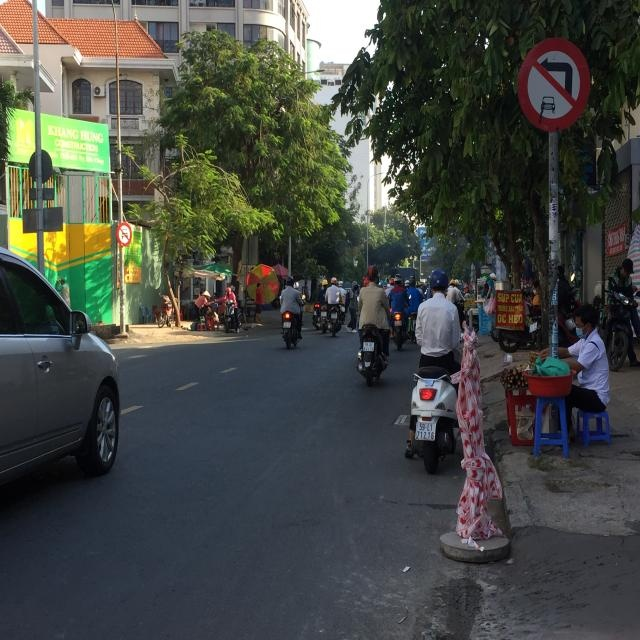bien_cam: (512, 35, 596, 136)
